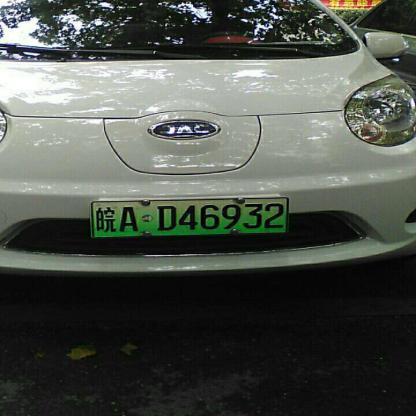lp: (92, 198, 287, 236)
